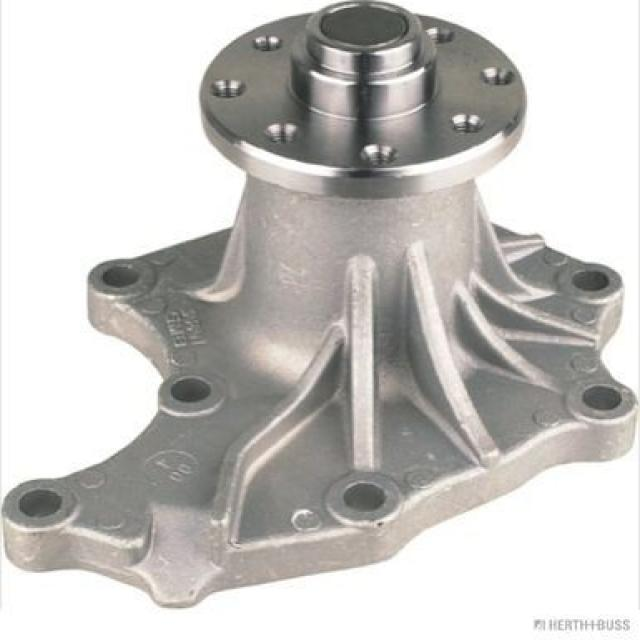video2: (6, 1, 640, 610)
